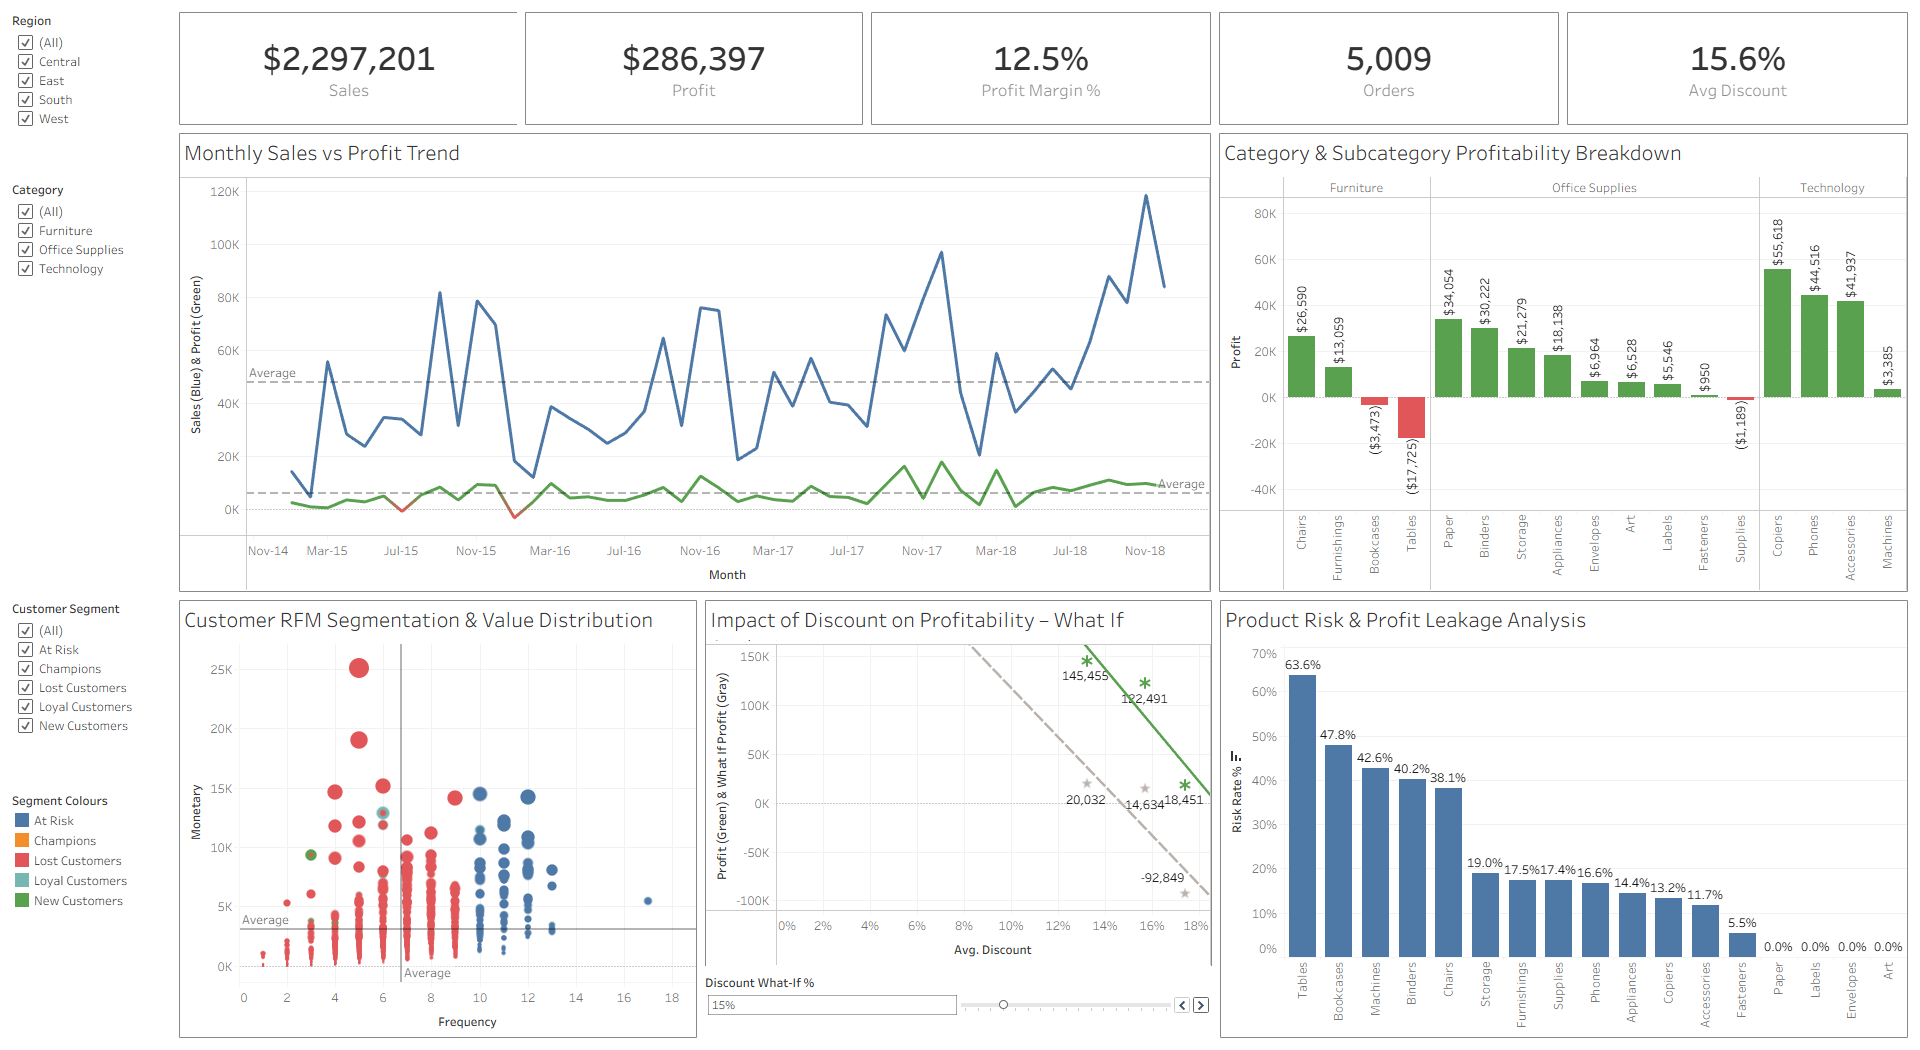

This screenshot's page, from the dashboard's own definition file:
{"tool":"tableau","page":{"name":"Executive Business Intelligence Dashboard","canvas":[1000,1000],"units":"permille","ordinal":0},"visuals":[{"type":"filter","title":"Sales & Profit Trend","param":"[federated.1oib9ci1wiit3418ek7220pa1inu].[none:Region:nk]","box":[4.2,8.9,86.7,160.8]},{"type":"worksheet","title":"KPI-1","mark":"Automatic","box":[91,8.9,180.7,115.1]},{"type":"worksheet","title":"KPI-2","mark":"Automatic","box":[271.6,8.9,180.1,115.1]},{"type":"worksheet","title":"KPI-3","mark":"Automatic","box":[451.7,8.9,181.2,115.1]},{"type":"worksheet","title":"KPI-4","mark":"Automatic","box":[633,8.9,181.1,115.1]},{"type":"worksheet","title":"KPI-5","mark":"Automatic","box":[814,8.9,181.7,115.1]},{"type":"worksheet","title":"Sales & Profit Trend","mark":"Line","rows":["Sales","Profit"],"cols":["Order Date"],"box":[91,124.1,541.8,443.2]},{"type":"worksheet","title":"Category Profit Analysis","mark":"Automatic","rows":["Profit"],"cols":["Category","Sub-Category"],"box":[632.8,124.1,363,443.2]},{"type":"filter","title":"Sales & Profit Trend","param":"[federated.1oib9ci1wiit3418ek7220pa1inu].[none:Category:nk]","box":[4.2,169.7,86.7,141.6]},{"type":"blank","box":[4.2,311.3,86.7,256.3]},{"type":"worksheet","title":"RFM Customer Segmentation","mark":"Circle","rows":["Calculation_1015978253893640"],"cols":["Calculation_1015978253824007"],"box":[91,567.3,274,423.8]},{"type":"worksheet","title":"Discount Impact Analysis","mark":"Shape","rows":["Profit","Calculation_0080019422253056"],"cols":["Discount"],"box":[365,567.3,268.3,355.8]},{"type":"worksheet","title":"Risk & Returns Analysis","mark":"Automatic","rows":["Calculation_0080019432230918"],"cols":["Sub-Category"],"box":[633.2,567.3,362.5,423.8]},{"type":"filter","title":"RFM Customer Segmentation","param":"[federated.1oib9ci1wiit3418ek7220pa1inu].[none:Calculation_1015978272591891:nk]","box":[4.2,567.6,86.7,182.4]},{"type":"legend","title":"RFM Customer Segmentation","param":"[federated.1oib9ci1wiit3418ek7220pa1inu].[none:Calculation_1015978272591891:nk]","box":[4.2,750,86.7,241.1]},{"type":"parameter","param":"[Parameters].[Parameter 1]","box":[365,923,268.3,68.1]}]}

Visuals, with their boxes on the dashboard's canvas, which has no fixed pixel size, in thousandths of its width and height (x1, y1, x2, y2). These are canvas units, not pixel positions in the 1920x1050 screenshot, which may show the page scaled, cropped or inside an application window:
"Sales & Profit Trend" filter: {"x1": 4, "y1": 9, "x2": 91, "y2": 170}
"KPI-1" worksheet: {"x1": 91, "y1": 9, "x2": 272, "y2": 124}
"KPI-2" worksheet: {"x1": 272, "y1": 9, "x2": 452, "y2": 124}
"KPI-3" worksheet: {"x1": 452, "y1": 9, "x2": 633, "y2": 124}
"KPI-4" worksheet: {"x1": 633, "y1": 9, "x2": 814, "y2": 124}
"KPI-5" worksheet: {"x1": 814, "y1": 9, "x2": 996, "y2": 124}
"Sales & Profit Trend" worksheet (Line marks): {"x1": 91, "y1": 124, "x2": 633, "y2": 567}
"Category Profit Analysis" worksheet: {"x1": 633, "y1": 124, "x2": 996, "y2": 567}
"Sales & Profit Trend" filter: {"x1": 4, "y1": 170, "x2": 91, "y2": 311}
blank: {"x1": 4, "y1": 311, "x2": 91, "y2": 568}
"RFM Customer Segmentation" worksheet (Circle marks): {"x1": 91, "y1": 567, "x2": 365, "y2": 991}
"Discount Impact Analysis" worksheet (Shape marks): {"x1": 365, "y1": 567, "x2": 633, "y2": 923}
"Risk & Returns Analysis" worksheet: {"x1": 633, "y1": 567, "x2": 996, "y2": 991}
"RFM Customer Segmentation" filter: {"x1": 4, "y1": 568, "x2": 91, "y2": 750}
"RFM Customer Segmentation" legend: {"x1": 4, "y1": 750, "x2": 91, "y2": 991}
parameter: {"x1": 365, "y1": 923, "x2": 633, "y2": 991}
